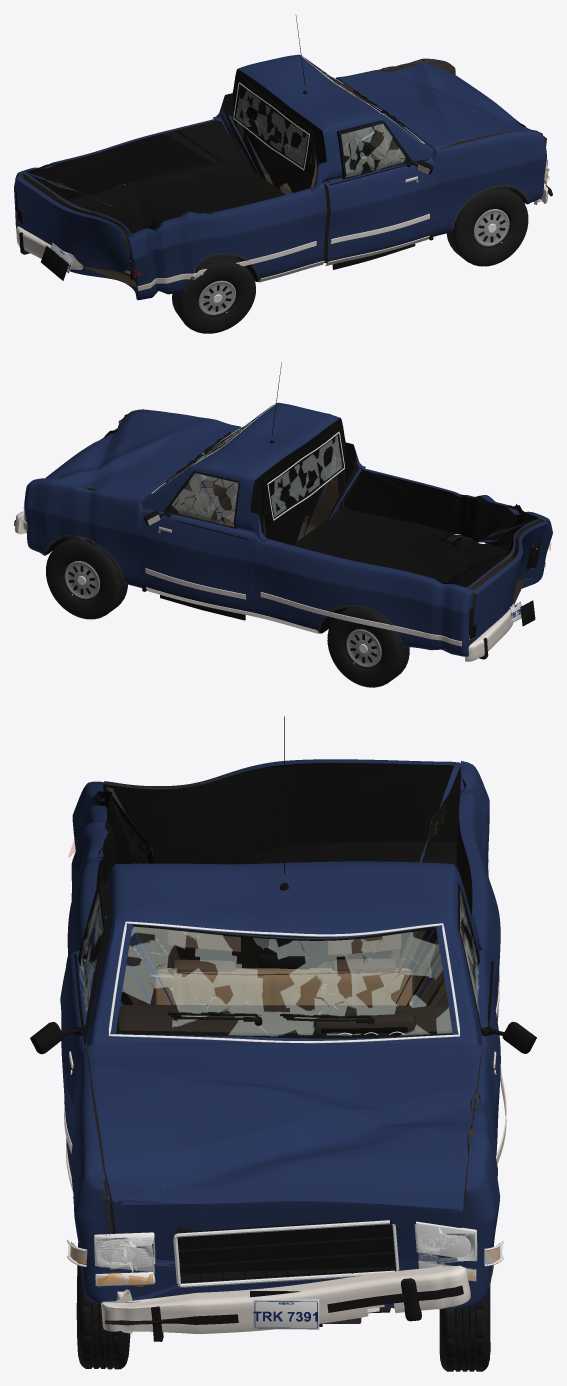
The model's file is pickup87_rear_corner_R_d1.glb.
3 views of the same model, one above another, from view 1: azimuth 30°, elevation 25°; view 2: azimuth 150°, elevation 25°; view 3: azimuth 270°, elevation 25° (orthographic). The views are drawn at different scales.
Parts seen in each view (by area): view 1: Body, Hood, Door_FR, Tailgate, Wheel_FR_mesh, Wheel_RR_mesh, Glass, Interior, Trim_FR, Trim, Glass_FR, Ends (+1 smaller); view 2: Body, Hood, Door_FL, Wheel_FL_mesh, Wheel_RL_mesh, Tailgate, Glass, Trim, Interior, Trim_FL, Glass_FL, Ends (+1 smaller); view 3: Body, Hood, Interior, Glass, Ends, Bumper_F, Door_FR, Wheel_FL_mesh, Wheel_FR_mesh, Door_FL, Lamps_Head, Trim_FR (+4 smaller).
Part boxes in pixels (<box>): Body: <box>14,54,546,300</box>; Hood: <box>336,63,530,153</box>; Door_FR: <box>324,120,434,263</box>; Tailgate: <box>15,176,136,286</box>; Wheel_FR_mesh: <box>446,187,528,266</box>; Wheel_RR_mesh: <box>172,255,255,333</box>; Glass: <box>233,56,424,170</box>; Interior: <box>283,84,405,189</box>; Trim_FR: <box>325,121,433,269</box>; Trim: <box>137,14,529,293</box>; Glass_FR: <box>339,121,408,179</box>; Ends: <box>15,159,549,282</box>; Body: <box>24,402,552,656</box>; Hood: <box>45,412,240,504</box>; Door_FL: <box>141,470,254,612</box>; Wheel_FL_mesh: <box>46,537,127,619</box>; Wheel_RL_mesh: <box>327,607,409,687</box>; Tailgate: <box>471,521,547,643</box>; Glass: <box>151,404,344,520</box>; Trim: <box>42,362,545,646</box>; Interior: <box>166,463,238,526</box>; Trim_FL: <box>144,471,253,620</box>; Glass_FL: <box>167,471,240,528</box>; Ends: <box>21,506,541,640</box>; Body: <box>67,761,500,1309</box>; Hood: <box>86,1042,482,1267</box>; Interior: <box>116,930,451,1035</box>; Glass: <box>108,921,459,1043</box>; Ends: <box>67,1220,503,1329</box>; Bumper_F: <box>101,1265,470,1341</box>; Door_FR: <box>60,882,110,1175</box>; Wheel_FL_mesh: <box>439,1285,490,1371</box>; Wheel_FR_mesh: <box>76,1242,130,1369</box>; Door_FL: <box>458,883,500,1155</box>; Lamps_Head: <box>96,1234,474,1269</box>; Trim_FR: <box>30,883,104,1190</box>.
Size of the model in its own units: 4.99 by 2.58 by 2.34.
Materials: 34 (5 with a texture image).
